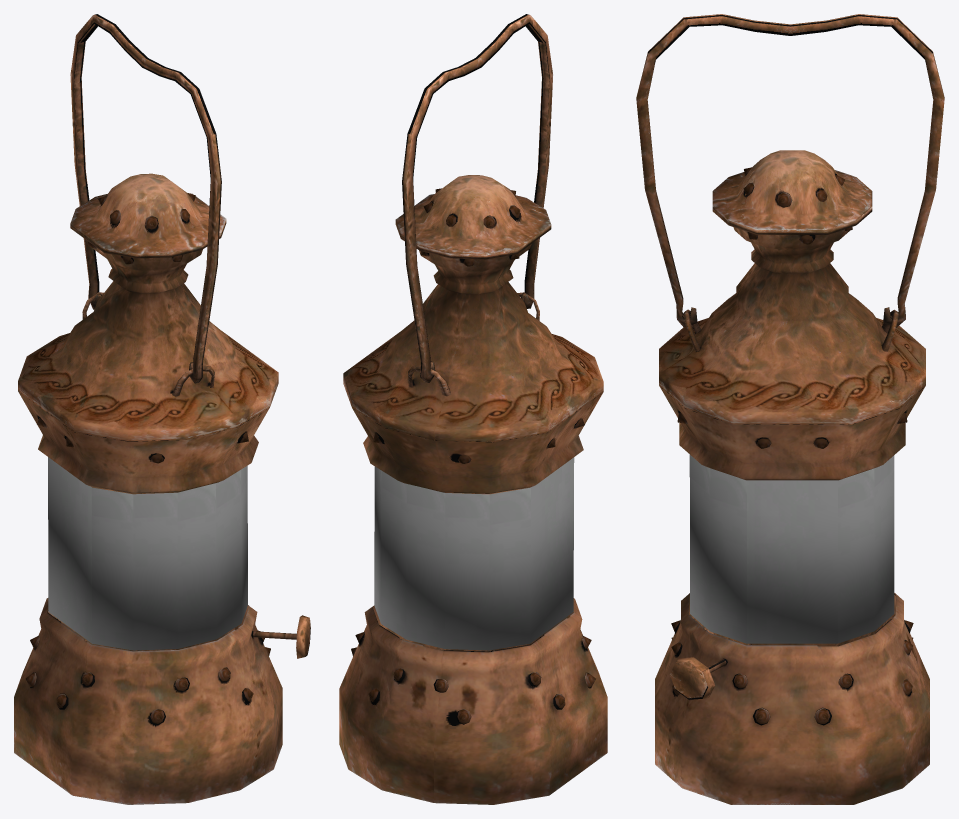
File: lantern_item.dae
3 views of the same model, side by side, from view 1: azimuth 30°, elevation 25°; view 2: azimuth 150°, elevation 25°; view 3: azimuth 270°, elevation 25° (orthographic). The views are drawn at different scales.
Visible parts, largest first — view 1: latern, glass, handle; view 2: latern, glass, handle, inside; view 3: latern, glass, handle, inside.
Boxes of the visible parts, x1,y1,x2,y2 form: latern: (14,173,310,804); glass: (48,457,247,650); handle: (70,14,221,383); latern: (339,175,607,804); glass: (374,457,574,650); handle: (402,14,552,382); inside: (379,434,567,651); latern: (655,150,929,804); glass: (689,454,894,643); handle: (636,14,944,327); inside: (695,619,888,646).
Bounding box in the file's own units: 0.1451 × 0.4235 × 0.161.
